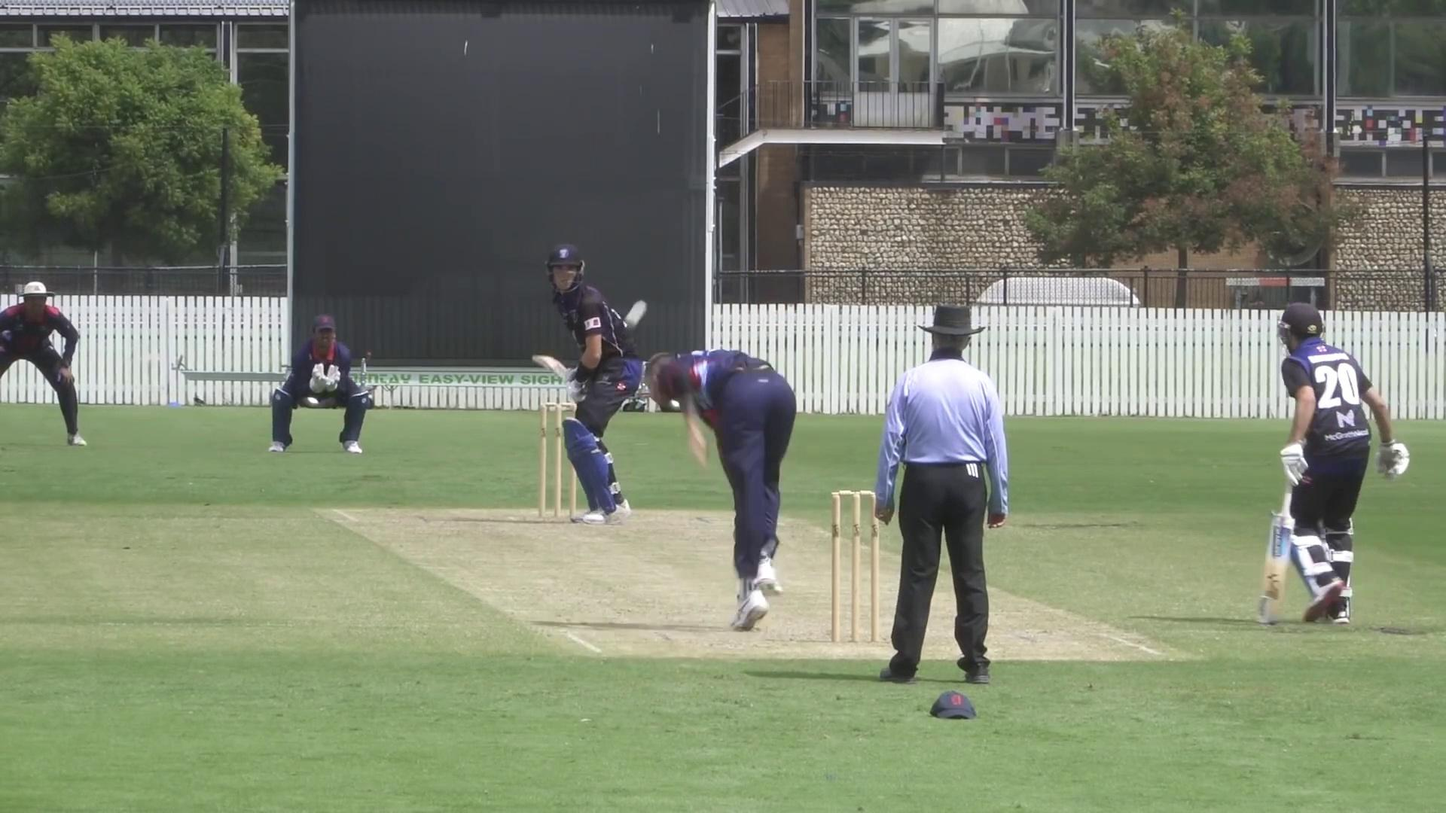ball: (622, 299, 650, 329)
